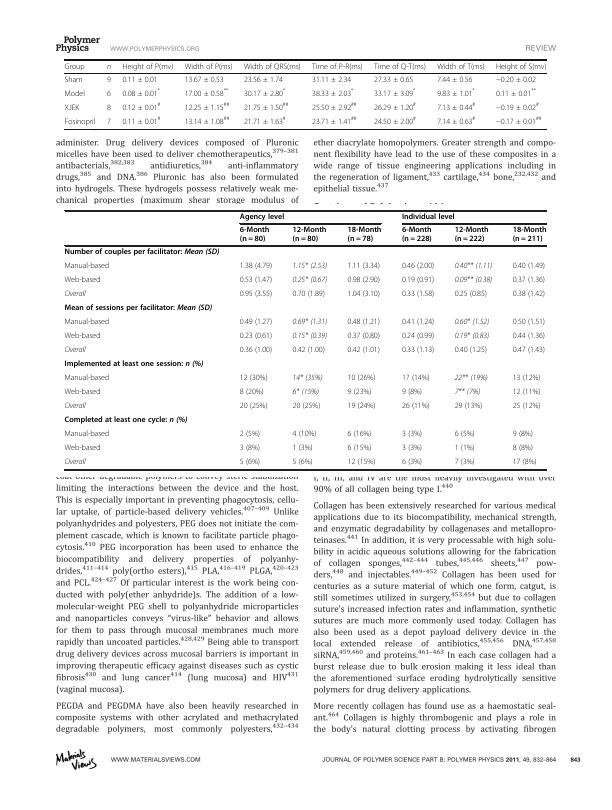borderless: (63, 209, 546, 469), (64, 58, 547, 129)
cell: (64, 248, 220, 258), (64, 304, 213, 314), (64, 360, 204, 370), (64, 416, 188, 426), (292, 226, 327, 245), (347, 226, 382, 245), (454, 226, 489, 245), (512, 226, 547, 245), (401, 226, 433, 245), (239, 226, 270, 245), (243, 62, 302, 71), (495, 115, 542, 126), (184, 101, 230, 112), (243, 101, 289, 112), (311, 101, 357, 112), (184, 115, 230, 126), (311, 115, 357, 126), (401, 213, 456, 222), (184, 87, 229, 98), (495, 101, 540, 112), (373, 62, 427, 71), (373, 101, 417, 112), (243, 115, 287, 126), (373, 115, 417, 126), (121, 62, 174, 71), (311, 62, 364, 71), (243, 87, 286, 98), (311, 87, 354, 98), (373, 87, 416, 98), (495, 62, 547, 71), (495, 87, 537, 98), (436, 62, 486, 71), (184, 62, 233, 71), (121, 87, 161, 98), (436, 87, 476, 98), (121, 101, 161, 112), (436, 101, 476, 112), (121, 115, 161, 126), (436, 115, 476, 126), (239, 213, 285, 222), (64, 262, 110, 271), (64, 318, 110, 327), (64, 374, 110, 383), (64, 430, 110, 439), (495, 75, 537, 84), (184, 75, 225, 84), (243, 75, 284, 84), (311, 75, 352, 84), (373, 75, 414, 84), (454, 262, 493, 271), (454, 276, 493, 285), (121, 75, 159, 84), (64, 276, 101, 285), (64, 332, 101, 341), (64, 388, 101, 397), (64, 444, 101, 453), (436, 75, 473, 84), (292, 262, 328, 271), (292, 276, 328, 285), (292, 318, 328, 327), (454, 318, 490, 327), (292, 332, 328, 341), (454, 332, 490, 341), (454, 374, 489, 383), (239, 262, 273, 271), (347, 262, 381, 271), (401, 262, 435, 271), (512, 262, 546, 271), (239, 276, 273, 285), (347, 276, 381, 285), (401, 276, 435, 285), (512, 276, 546, 285), (239, 290, 273, 299), (292, 290, 326, 299), (347, 290, 381, 299), (401, 290, 435, 299), (454, 290, 488, 299), (512, 290, 546, 299), (239, 318, 273, 327), (347, 318, 381, 327), (401, 318, 435, 327), (512, 318, 546, 327), (239, 332, 273, 341), (347, 332, 381, 341), (401, 332, 435, 341), (512, 332, 546, 341), (239, 346, 273, 355), (292, 346, 326, 355), (347, 346, 381, 355), (401, 346, 435, 355), (454, 346, 488, 355), (512, 346, 546, 355), (64, 117, 96, 126), (292, 374, 323, 383), (401, 374, 431, 383), (401, 402, 431, 411), (239, 374, 268, 383), (347, 374, 376, 383), (512, 374, 541, 383), (512, 388, 541, 397), (239, 402, 268, 411), (292, 402, 321, 411), (347, 402, 376, 411), (454, 402, 483, 411), (512, 402, 541, 411), (347, 458, 376, 467), (292, 388, 320, 397), (454, 388, 481, 397), (239, 388, 265, 397), (512, 458, 538, 467), (347, 388, 372, 397), (292, 430, 317, 439), (347, 430, 372, 439), (347, 444, 372, 453), (64, 290, 87, 299), (64, 346, 87, 355), (64, 402, 87, 411), (64, 458, 87, 467), (401, 388, 423, 397), (239, 430, 261, 439), (401, 430, 423, 439), (454, 430, 476, 439), (512, 430, 534, 439), (239, 444, 261, 453), (292, 444, 314, 453), (401, 444, 423, 453), (454, 444, 476, 453), (512, 444, 534, 453), (239, 458, 261, 467), (292, 458, 314, 467), (401, 458, 423, 467), (454, 458, 476, 467), (64, 89, 86, 98), (64, 62, 85, 71), (64, 75, 83, 84), (64, 103, 80, 112), (106, 75, 112, 84), (106, 89, 112, 98), (106, 103, 112, 112), (106, 117, 112, 126), (106, 64, 112, 70)
